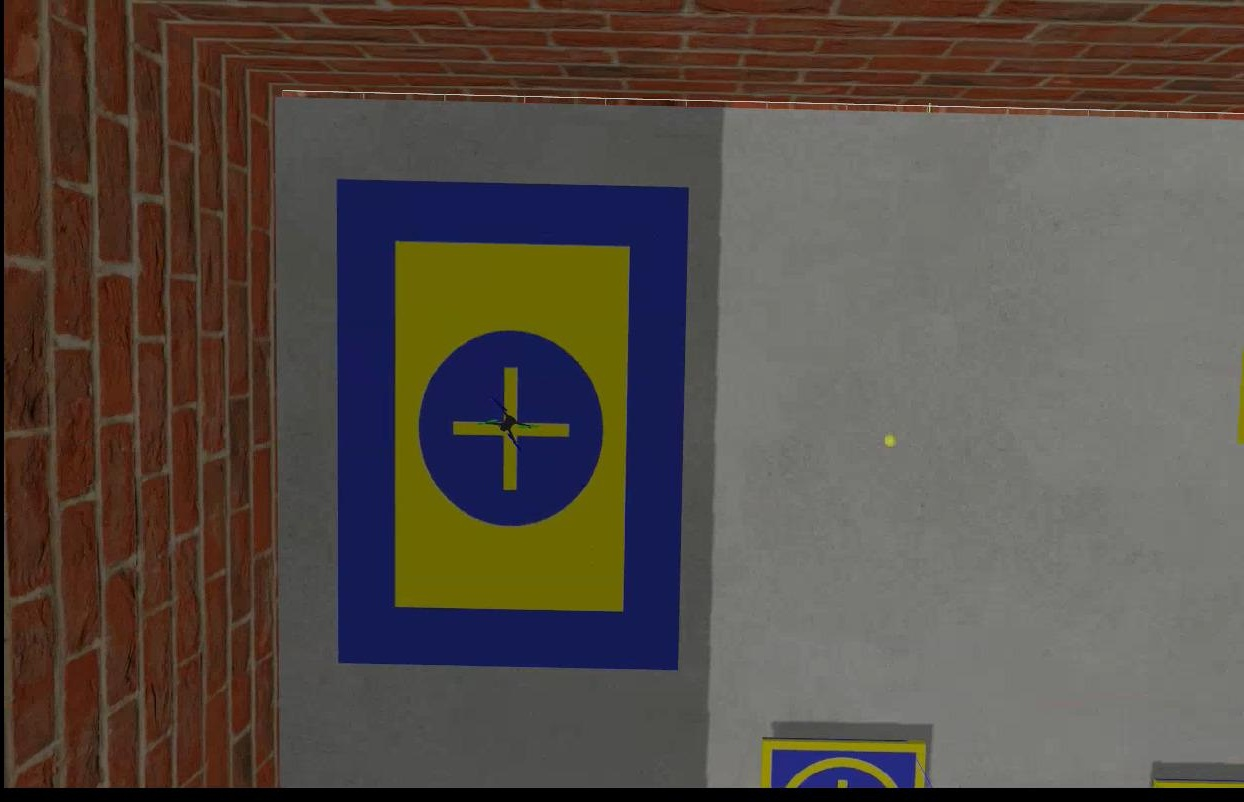large_base: (336, 179, 690, 670)
small_base: (756, 738, 925, 793)
